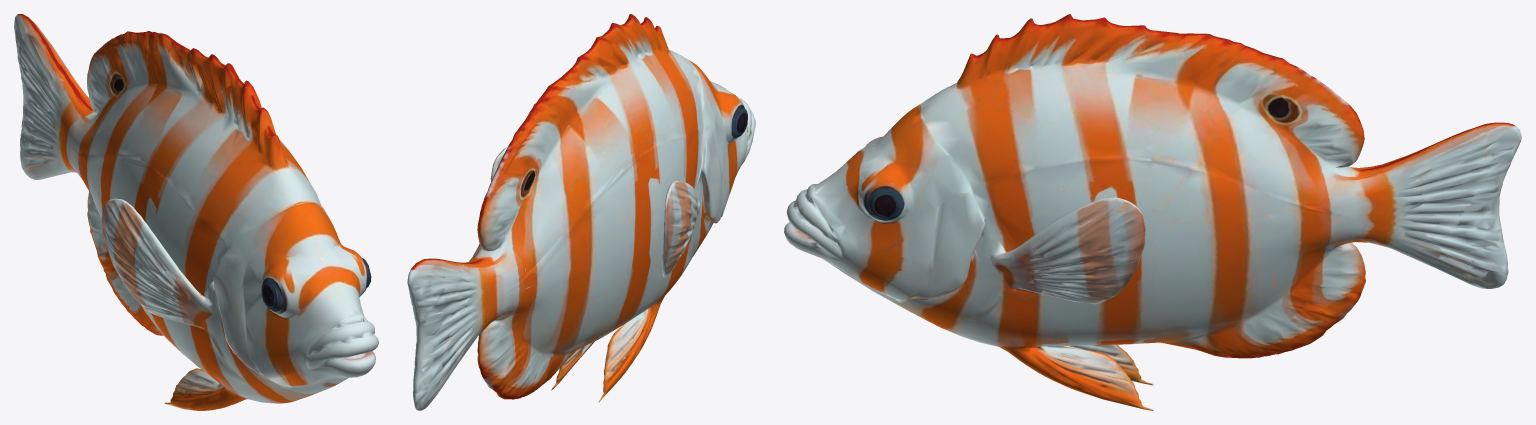
The model's file is ButterflyFish.glb.
3 views of the same model, side by side, from view 1: azimuth 30°, elevation 25°; view 2: azimuth 150°, elevation 25°; view 3: azimuth 270°, elevation 25° (orthographic). The views are drawn at different scales.
Bounding box in the file's own units: 0.5946 × 1.09 × 1.9.
1 material, 1 textured.
